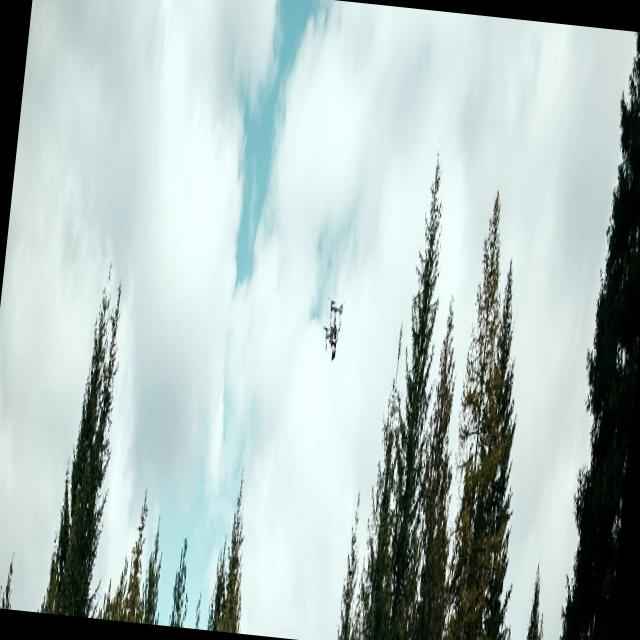drone: (313, 273, 350, 382)
